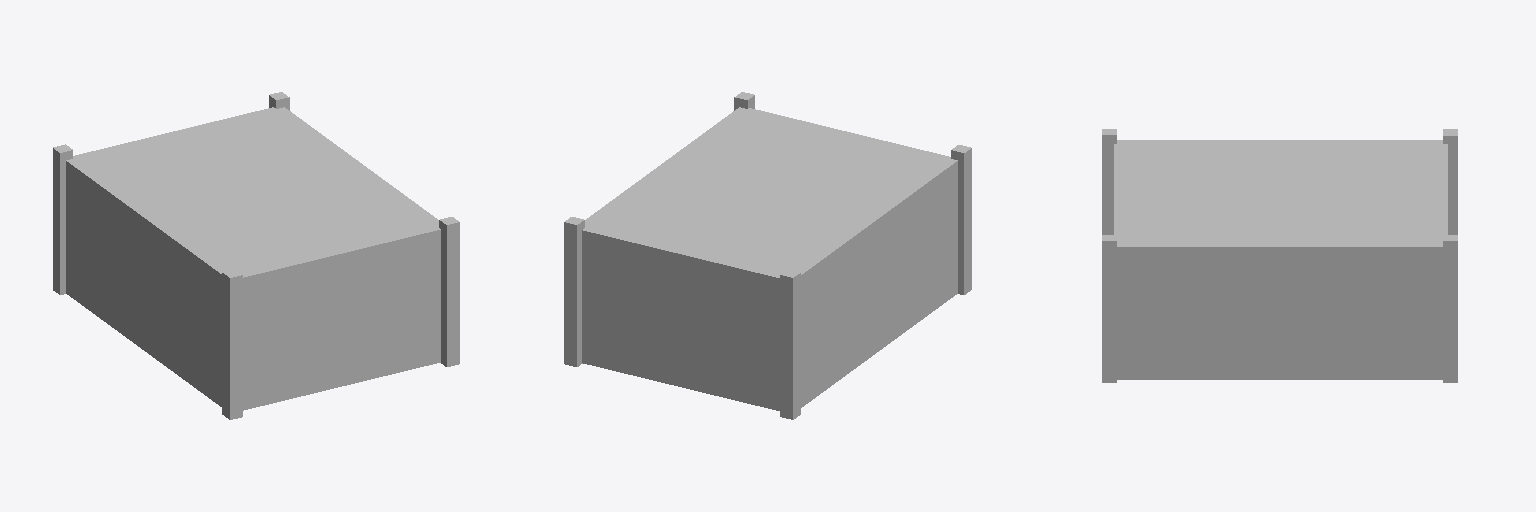
The model's file is (failed) house.obj.
The picture shows the model from 3 angles: view 1: azimuth 30°, elevation 25°; view 2: azimuth 150°, elevation 25°; view 3: azimuth 270°, elevation 25°; orthographic projection.
Parts seen in each view (by area): view 1: Cube_Cube.006, beam.002_Cube.007, beam_Cube.004, beam.003_Cube.002; view 2: Cube_Cube.006, beam.003_Cube.002, beam.001_Cube.003, beam.002_Cube.007; view 3: Cube_Cube.006, beam_Cube.004, beam.001_Cube.003, beam.002_Cube.007, beam.003_Cube.002.
Part boxes in pixels (left/top/right/bottom): Cube_Cube.006: left=66, top=107, right=440, bottom=410; beam.002_Cube.007: left=222, top=269, right=242, bottom=419; beam_Cube.004: left=439, top=217, right=459, bottom=366; beam.003_Cube.002: left=53, top=144, right=72, bottom=294; Cube_Cube.006: left=582, top=107, right=957, bottom=410; beam.003_Cube.002: left=780, top=269, right=800, bottom=419; beam.001_Cube.003: left=564, top=217, right=584, bottom=366; beam.002_Cube.007: left=951, top=145, right=971, bottom=294; Cube_Cube.006: left=1114, top=140, right=1447, bottom=379; beam_Cube.004: left=1102, top=235, right=1116, bottom=382; beam.001_Cube.003: left=1443, top=235, right=1457, bottom=382; beam.002_Cube.007: left=1102, top=129, right=1116, bottom=234; beam.003_Cube.002: left=1443, top=129, right=1457, bottom=234.
Size of the model in its own units: 14.86 by 8.79 by 19.94.